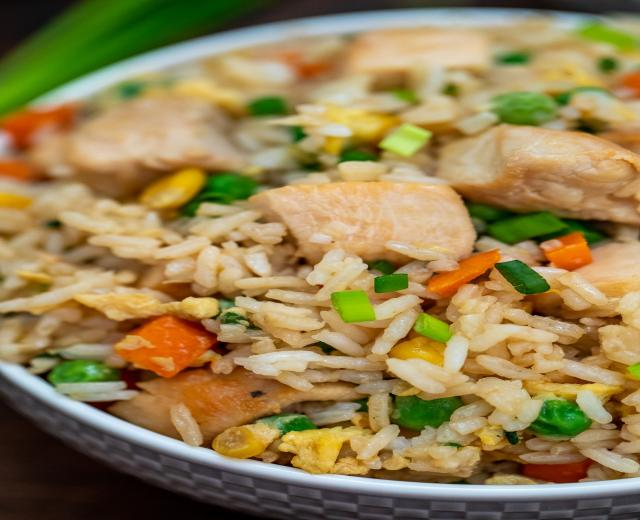fried rice: (4, 24, 628, 476), (61, 197, 279, 277)
